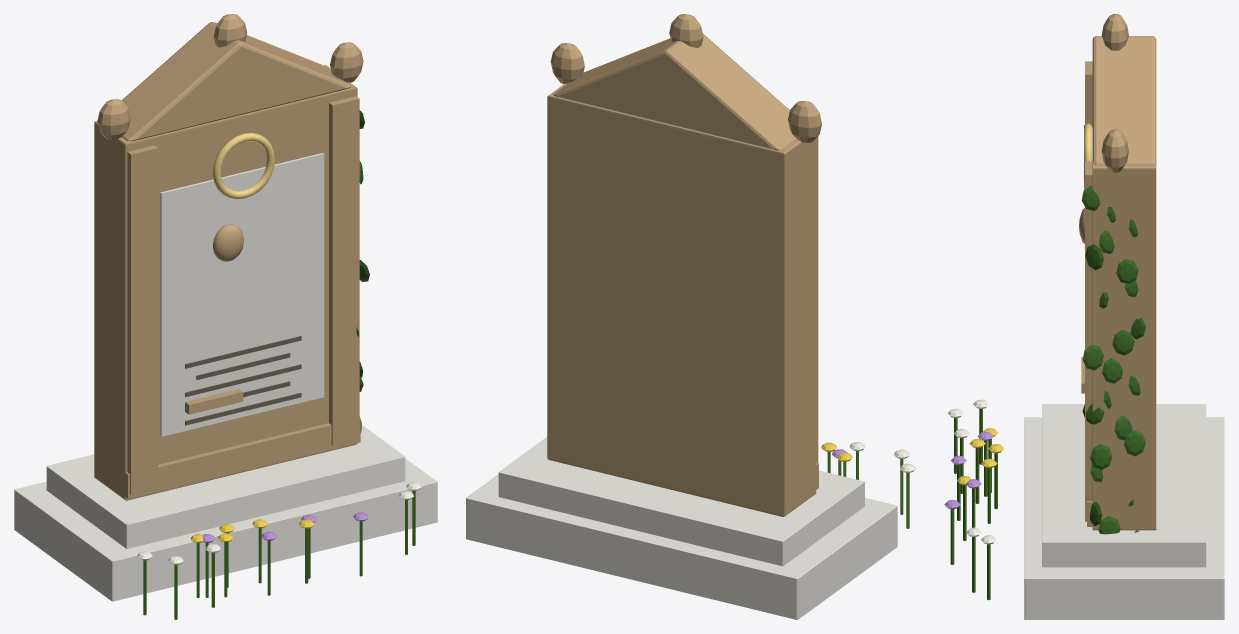
Rendered from obj_kit_tomb.glb.
3 renders of one model, left to right at view 1: azimuth 30°, elevation 25°; view 2: azimuth 150°, elevation 25°; view 3: azimuth 270°, elevation 25°, orthographic.
Visible parts, largest first — view 1: Cube.006, Cube.002, Cube, Cube.001, Cylinder, Cube.004, Cube.003, Cube.005, Torus, Sphere.001, Sphere, Sphere.003 (+5 smaller); view 2: Cube.002, Cube, Cube.001, Cylinder, Sphere.001, Sphere, Cube.004, Sphere.002; view 3: Cube.002, Cube.001, Cube, Cylinder, Cube.003, Sphere, Sphere.002, Cube.004, Sphere.011, Sphere.019, Sphere.024, Sphere.012 (+2 smaller).
Part boxes in pixels (left/top/right/bottom): Cube.006: left=160, top=153, right=324, bottom=436; Cube.002: left=94, top=65, right=357, bottom=500; Cube: left=14, top=458, right=437, bottom=601; Cube.001: left=46, top=425, right=405, bottom=548; Cylinder: left=122, top=22, right=351, bottom=141; Cube.004: left=127, top=145, right=158, bottom=495; Cube.003: left=329, top=96, right=359, bottom=445; Cube.005: left=125, top=417, right=360, bottom=498; Torus: left=213, top=133, right=274, bottom=199; Sphere.001: left=97, top=99, right=130, bottom=140; Sphere: left=330, top=42, right=363, bottom=82; Sphere.003: left=213, top=224, right=243, bottom=261; Cube.002: left=547, top=83, right=816, bottom=516; Cube: left=466, top=474, right=897, bottom=619; Cube.001: left=498, top=437, right=864, bottom=566; Cylinder: left=553, top=34, right=796, bottom=150; Sphere.001: left=788, top=101, right=821, bottom=142; Sphere: left=550, top=43, right=584, bottom=83; Cube.004: left=816, top=136, right=818, bottom=462; Sphere.002: left=669, top=14, right=703, bottom=48; Cube.002: left=1092, top=161, right=1156, bottom=530; Cube.001: left=1042, top=404, right=1206, bottom=567; Cube: left=1024, top=417, right=1224, bottom=619; Cylinder: left=1092, top=36, right=1156, bottom=164; Cube.003: left=1085, top=161, right=1092, bottom=521; Sphere: left=1101, top=129, right=1128, bottom=172; Sphere.002: left=1101, top=14, right=1128, bottom=50; Cube.004: left=1085, top=61, right=1092, bottom=127; Sphere.011: left=1090, top=444, right=1112, bottom=469; Sphere.019: left=1112, top=329, right=1134, bottom=355; Sphere.024: left=1116, top=259, right=1138, bottom=283; Sphere.012: left=1124, top=430, right=1145, bottom=456.
Size of the model in its own units: 0.84 by 1.27 by 0.6155.
